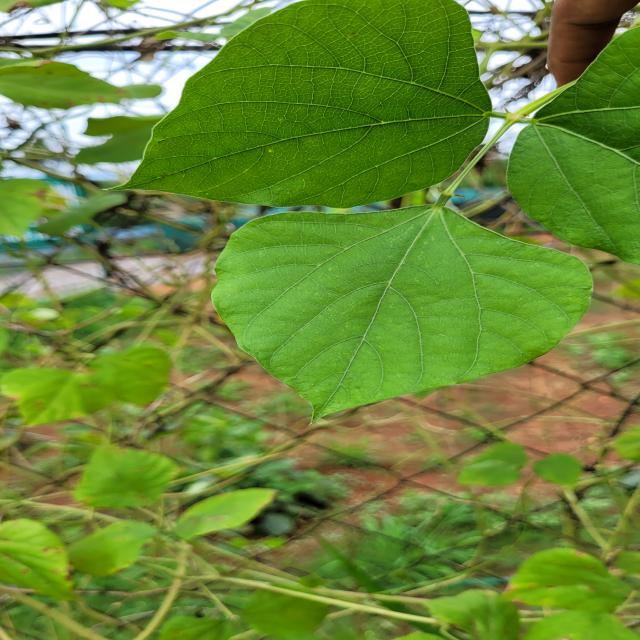Dolicos bean_healthy: (204, 211, 598, 424), (119, 0, 499, 212)
